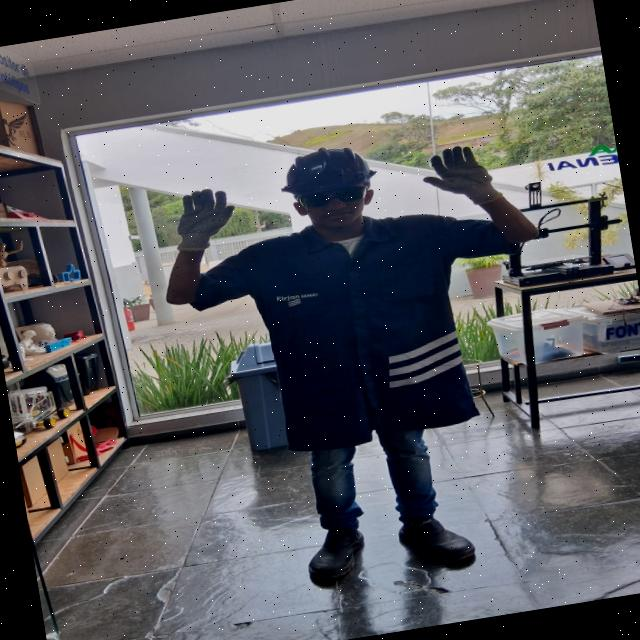BOTA: (402, 508, 478, 565), (307, 520, 370, 583)
CAPACETE: (278, 147, 377, 196)
JALECO: (190, 217, 527, 456)
LUVA: (422, 145, 508, 208), (169, 187, 238, 254)
OCULOS: (294, 186, 369, 212)
